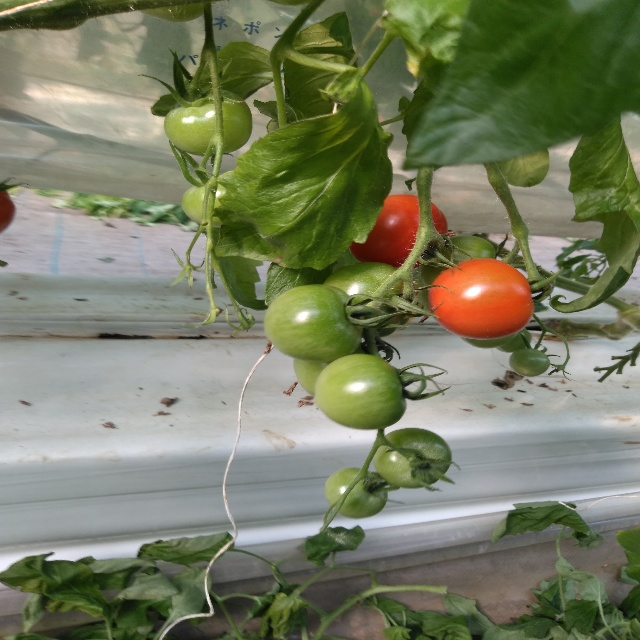l_fully_ripened: (429, 258, 534, 339), (351, 194, 448, 271)
l_green: (263, 285, 365, 362), (323, 261, 416, 338), (315, 354, 408, 430), (164, 88, 253, 158), (372, 428, 452, 489), (415, 235, 496, 292), (325, 468, 388, 520), (180, 170, 233, 227), (508, 346, 551, 377), (459, 332, 520, 349), (495, 328, 532, 353)
